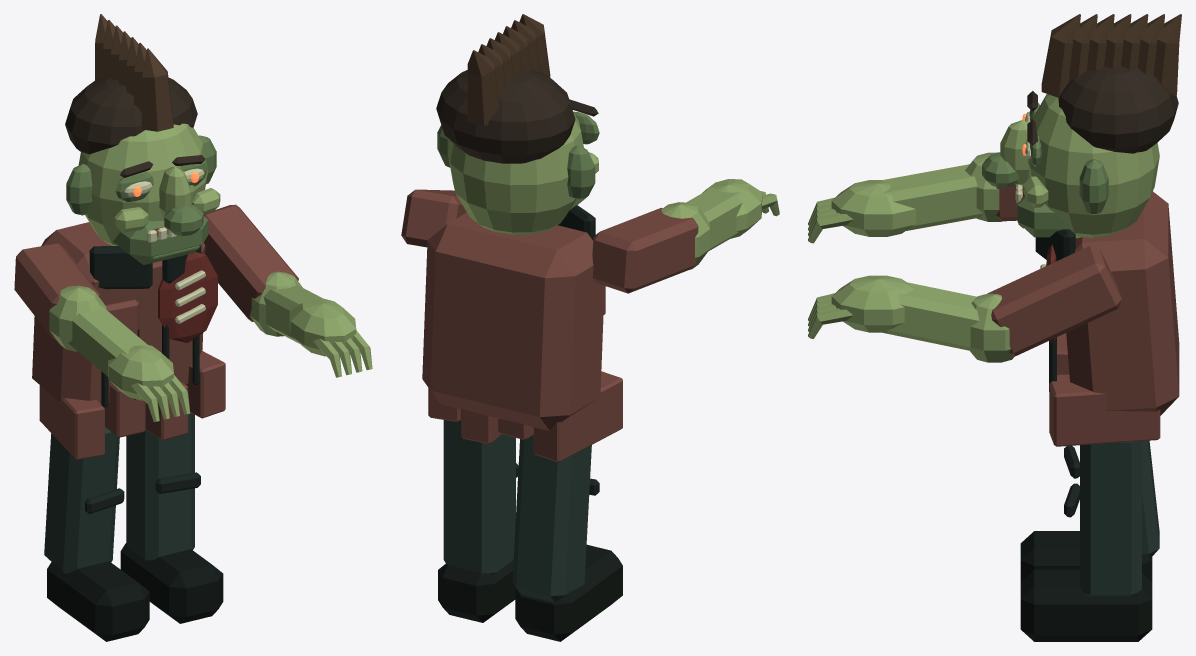
Rendered from zombie_runner.glb.
3 renders of one model, left to right at view 1: azimuth 30°, elevation 25°; view 2: azimuth 150°, elevation 25°; view 3: azimuth 270°, elevation 25°, orthographic. The views are drawn at different scales.
Parts seen in each view (by area): view 1: Torso, LegR, LegL, Head, BootL, ArmR, BootR, HairMass, ArmL, Tear, ChestWound, ForearmL (+23 smaller); view 2: Torso, LegL, LegR, HairMass, Head, ArmL, BootL, Tear, BootR, ArmR, Mohawk.006, ForearmL (+9 smaller); view 3: Torso, LegR, Head, ArmR, HairMass, BootR, Tear.003, ForearmL, ForearmR, HandR, HandL, BootL (+19 smaller).
Part boxes in pixels (x1,y1,x2,y2): Torso: [32, 222, 205, 403]; LegR: [126, 412, 194, 561]; LegL: [44, 427, 119, 573]; Head: [78, 123, 207, 245]; BootL: [47, 561, 149, 641]; ArmR: [203, 204, 298, 321]; BootR: [120, 543, 223, 623]; HairMass: [65, 76, 197, 154]; ArmL: [14, 243, 100, 340]; Tear: [39, 385, 104, 459]; ChestWound: [158, 252, 217, 342]; ForearmL: [68, 305, 149, 376]; Torso: [422, 212, 604, 430]; LegL: [512, 434, 591, 602]; LegR: [443, 420, 515, 574]; HairMass: [436, 69, 575, 163]; Head: [447, 113, 583, 234]; ArmL: [592, 207, 698, 293]; BootL: [515, 544, 622, 641]; Tear: [533, 371, 622, 462]; BootR: [438, 560, 515, 622]; ArmR: [401, 189, 466, 247]; Mohawk.006: [467, 50, 499, 125]; ForearmL: [686, 187, 742, 250]; Torso: [1066, 191, 1179, 415]; LegR: [1080, 441, 1141, 596]; Head: [1028, 94, 1159, 238]; ArmR: [987, 246, 1121, 356]; HairMass: [1058, 66, 1178, 153]; BootR: [1020, 569, 1152, 641]; Tear.003: [1049, 380, 1160, 446]; ForearmL: [880, 164, 982, 230]; ForearmR: [883, 282, 979, 350]; HandR: [831, 275, 913, 332]; HandL: [831, 180, 915, 236]; BootL: [1020, 531, 1152, 581].
Size of the model in its own units: 1 by 2.18 by 1.22.
